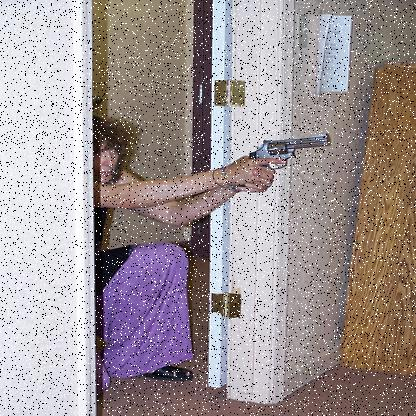pistol: (234, 128, 328, 186)
